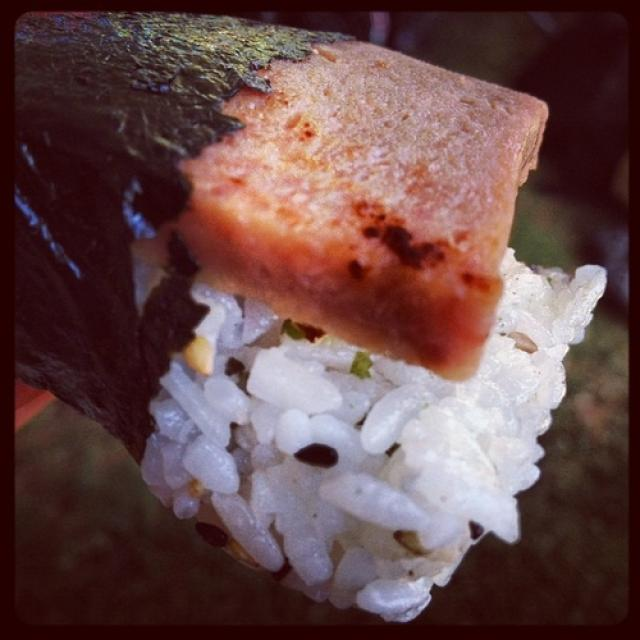寿司卷物: (26, 10, 606, 613)
